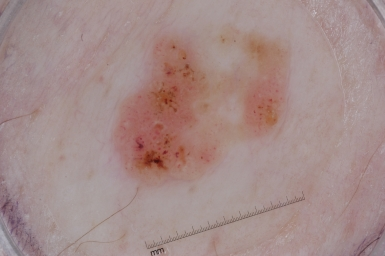seborrheic keratosis: (106, 12, 293, 186)
